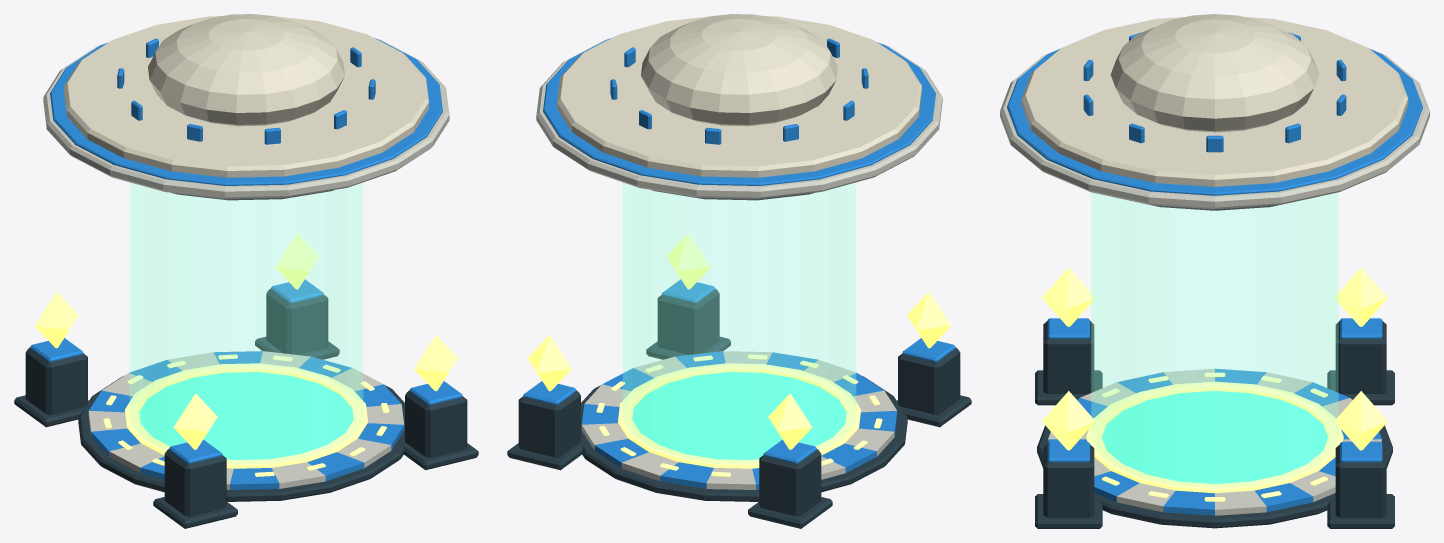
Rendered from PF_AlienEventPortal.fbx.
3 views of the same model, side by side, from view 1: azimuth 30°, elevation 25°; view 2: azimuth 150°, elevation 25°; view 3: azimuth 270°, elevation 25° (orthographic). The views are drawn at different scales.
Visible parts, largest first — view 1: BeamPlaceholder, EventUFO_Body, UFO_Dome.001, CrystalPedestals, PortalPad_InnerDisc, PortalPad_OuterRing, PortalCrystals, PortalPad_GlowRing, PortalPad_Base, CrystalPedestalCaps, EventUFO_Accents, PortalGlyphs; view 2: BeamPlaceholder, EventUFO_Body, UFO_Dome.001, CrystalPedestals, PortalPad_InnerDisc, PortalPad_OuterRing, PortalCrystals, PortalPad_GlowRing, PortalPad_Base, CrystalPedestalCaps, EventUFO_Accents, PortalGlyphs; view 3: BeamPlaceholder, EventUFO_Body, UFO_Dome.001, PortalPad_InnerDisc, CrystalPedestals, PortalPad_OuterRing, PortalCrystals, PortalPad_GlowRing, PortalPad_Base, CrystalPedestalCaps, EventUFO_Accents, PortalGlyphs.
Part boxes in pixels (x1=…): BeamPlaceholder: x1=130, y1=183, x2=362, y2=463; EventUFO_Body: x1=43, y1=15, x2=449, y2=200; UFO_Dome.001: x1=148, y1=14, x2=344, y2=126; CrystalPedestals: x1=14, y1=289, x2=478, y2=528; PortalPad_InnerDisc: x1=139, y1=372, x2=353, y2=468; PortalPad_OuterRing: x1=88, y1=351, x2=404, y2=489; PortalCrystals: x1=35, y1=233, x2=457, y2=449; PortalPad_GlowRing: x1=125, y1=363, x2=367, y2=468; PortalPad_Base: x1=78, y1=376, x2=404, y2=501; CrystalPedestalCaps: x1=30, y1=279, x2=462, y2=463; EventUFO_Accents: x1=117, y1=38, x2=375, y2=144; PortalGlyphs: x1=103, y1=354, x2=389, y2=476; BeamPlaceholder: x1=623, y1=183, x2=855, y2=463; EventUFO_Body: x1=536, y1=15, x2=942, y2=200; UFO_Dome.001: x1=641, y1=14, x2=837, y2=126; CrystalPedestals: x1=507, y1=289, x2=971, y2=528; PortalPad_InnerDisc: x1=632, y1=372, x2=846, y2=468; PortalPad_OuterRing: x1=581, y1=351, x2=897, y2=489; PortalCrystals: x1=528, y1=233, x2=950, y2=449; PortalPad_GlowRing: x1=618, y1=363, x2=860, y2=468; PortalPad_Base: x1=581, y1=376, x2=907, y2=501; CrystalPedestalCaps: x1=523, y1=279, x2=955, y2=463; EventUFO_Accents: x1=610, y1=38, x2=868, y2=144; PortalGlyphs: x1=596, y1=354, x2=882, y2=476; BeamPlaceholder: x1=1091, y1=193, x2=1338, y2=487; EventUFO_Body: x1=1000, y1=17, x2=1429, y2=210; UFO_Dome.001: x1=1110, y1=14, x2=1319, y2=132; PortalPad_InnerDisc: x1=1102, y1=391, x2=1327, y2=492; CrystalPedestals: x1=1035, y1=321, x2=1394, y2=528; PortalPad_OuterRing: x1=1048, y1=368, x2=1381, y2=515; PortalCrystals: x1=1042, y1=267, x2=1387, y2=450; PortalPad_GlowRing: x1=1086, y1=381, x2=1343, y2=493; PortalPad_Base: x1=1037, y1=425, x2=1392, y2=528; CrystalPedestalCaps: x1=1047, y1=318, x2=1382, y2=462; EventUFO_Accents: x1=1083, y1=32, x2=1346, y2=152; PortalGlyphs: x1=1102, y1=372, x2=1327, y2=501.
Size of the model in its own units: 10.5 by 11.35 by 10.5.
